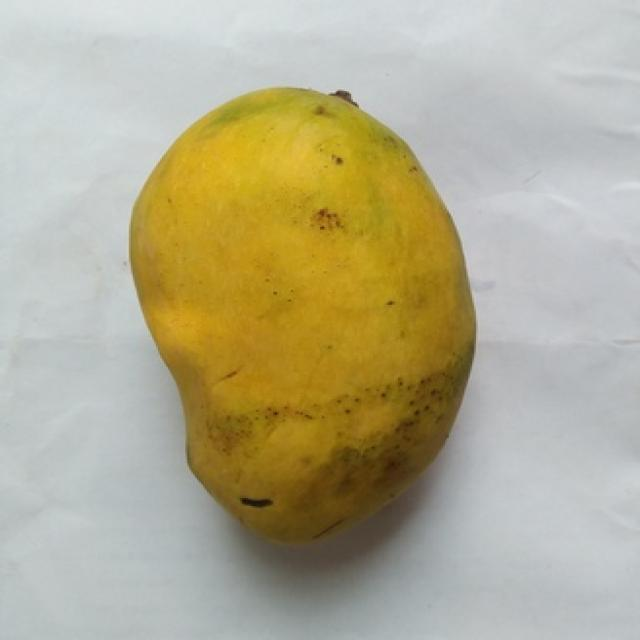Mango: (131, 88, 474, 541)
